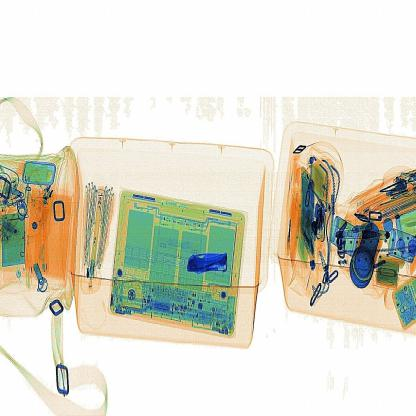knife: (182, 247, 233, 276)
